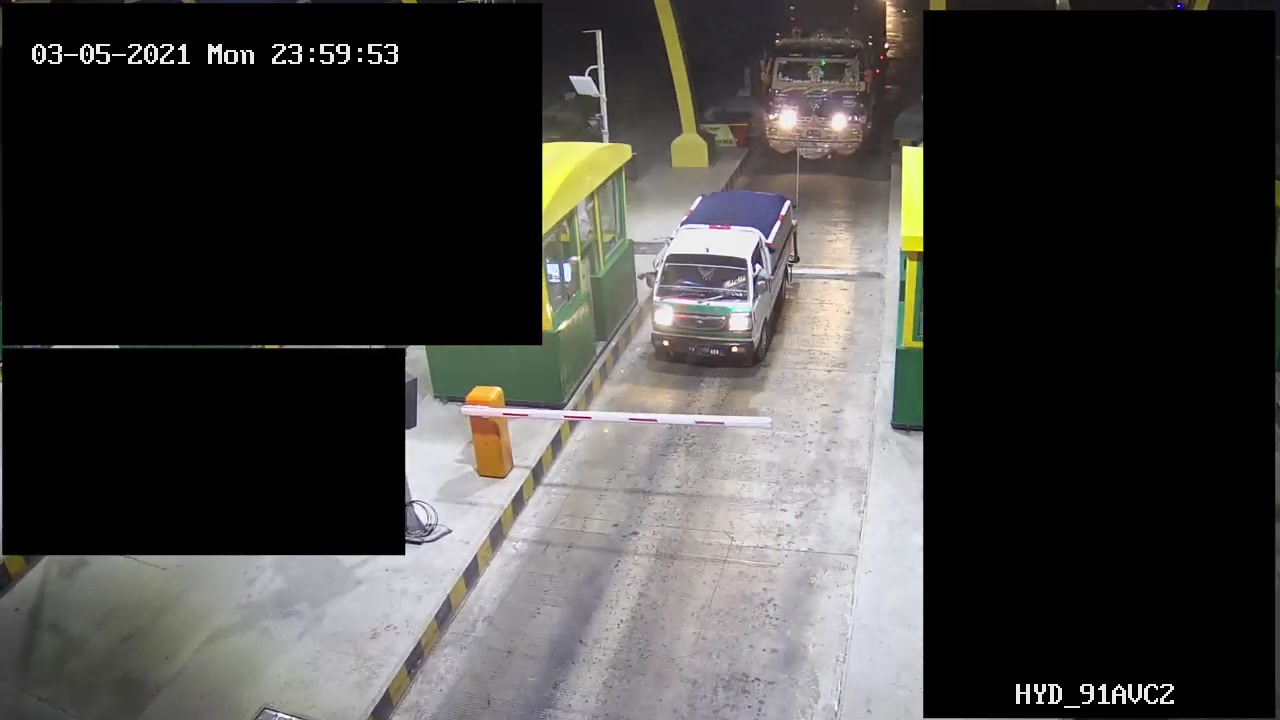F1: (643, 183, 808, 365)
